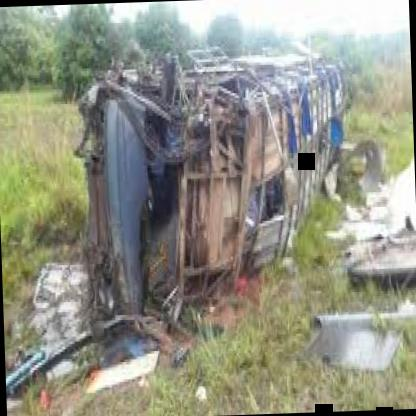accident: (52, 22, 353, 364)
